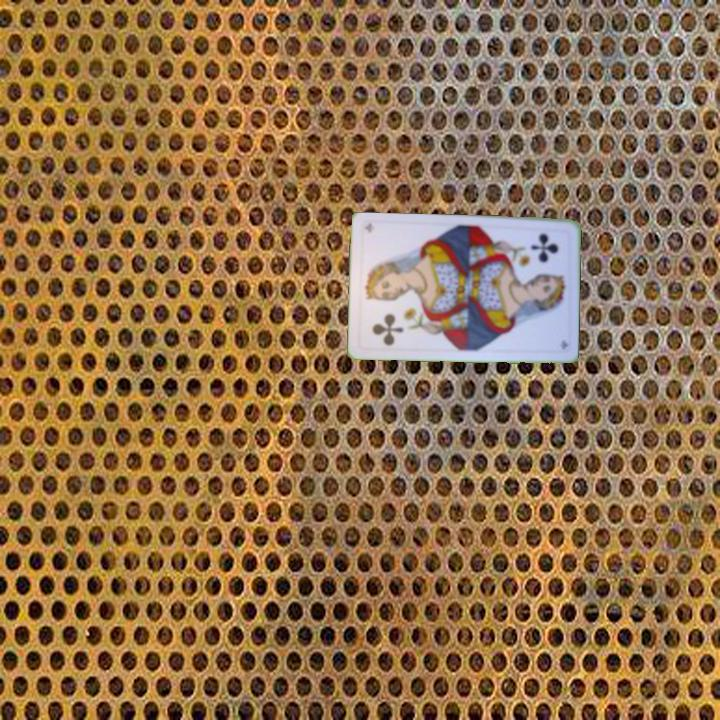c_q.png: (512, 225, 571, 294), (357, 283, 416, 351)
